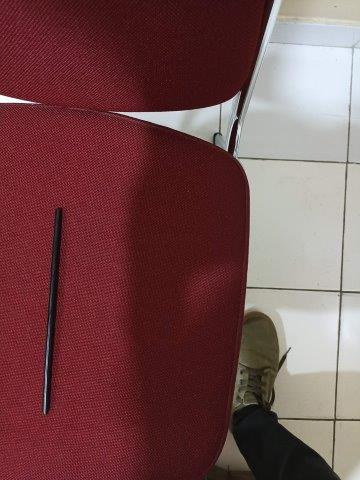sedotan: (42, 208, 62, 414)
